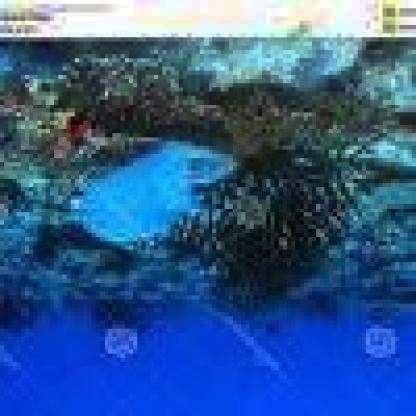pbag: (75, 137, 241, 254)
